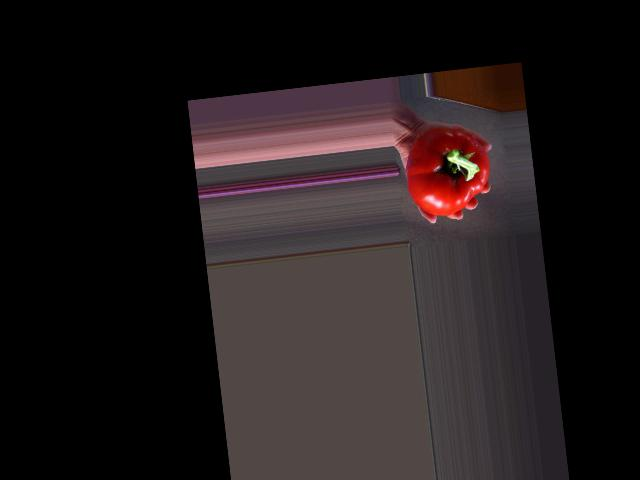tomato: (401, 123, 495, 219)
